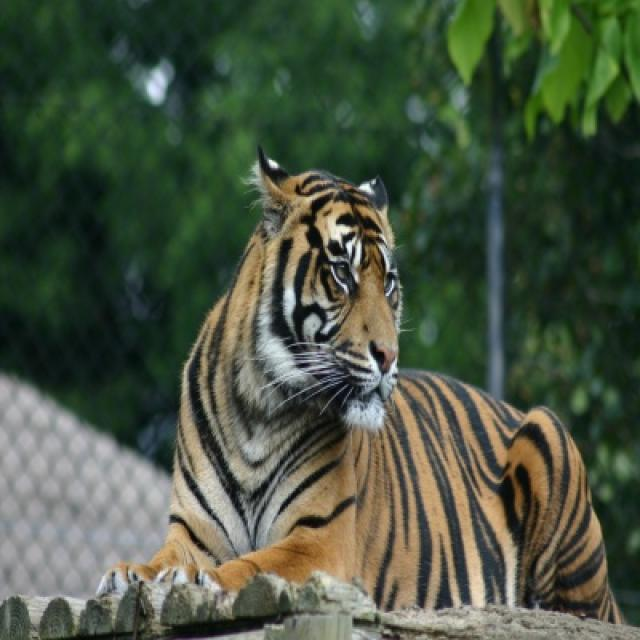Tiger: (143, 157, 619, 624)
